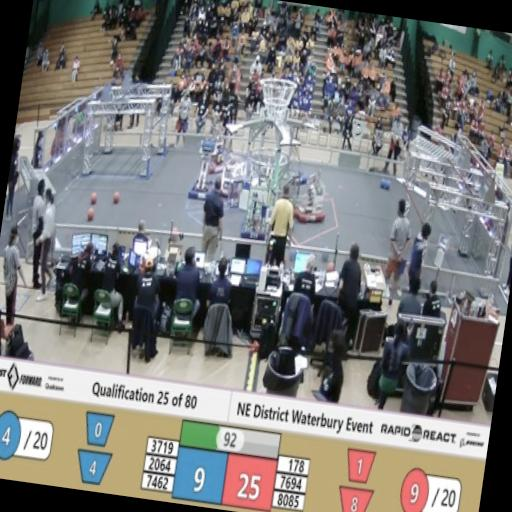robot: (234, 168, 279, 246), (289, 164, 334, 236), (184, 136, 224, 210), (203, 122, 236, 180), (214, 148, 248, 204), (285, 140, 313, 186)
